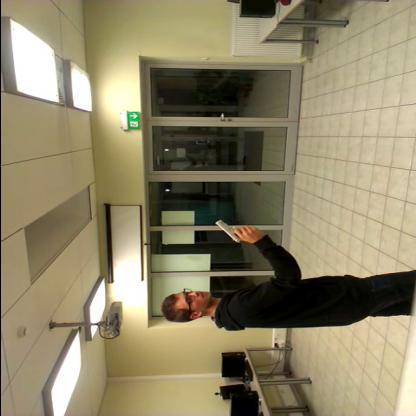Pistol: (210, 215, 250, 247)
